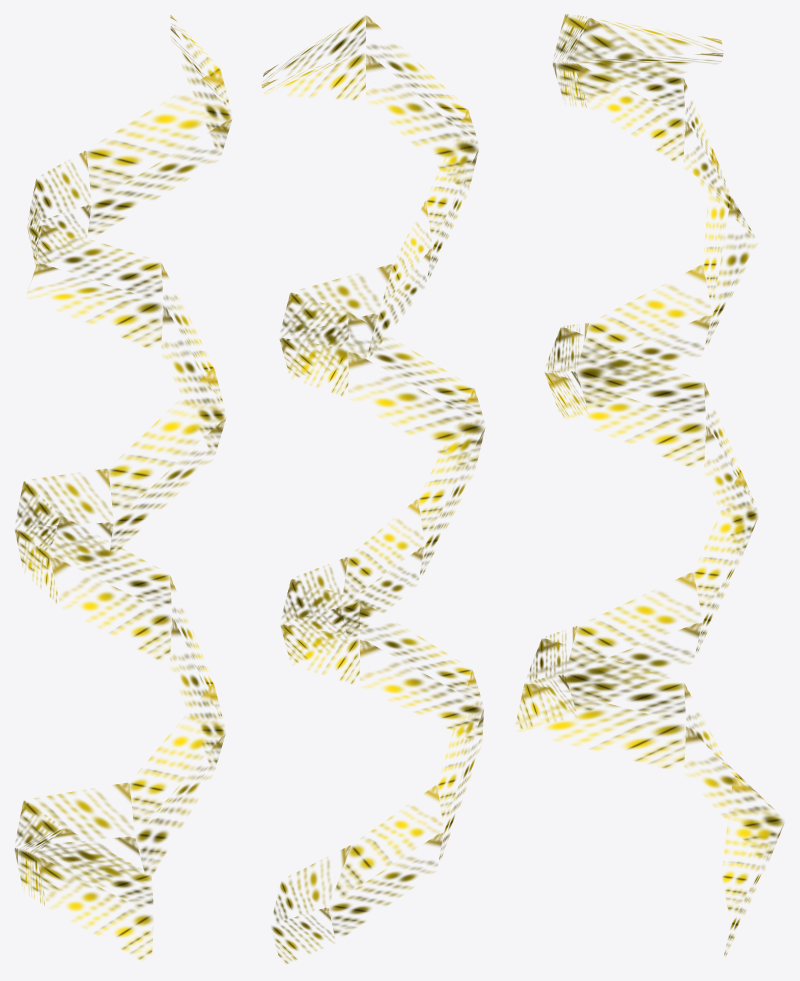
The model's file is polygonalmind-lunar-year-023.glb.
The picture shows the model from 3 angles, left to right: view 1: azimuth 30°, elevation 25°; view 2: azimuth 150°, elevation 25°; view 3: azimuth 270°, elevation 25°; orthographic projection. The views are drawn at different scales.
Parts seen in each view (by area): view 1: InteriorLight05; view 2: InteriorLight05; view 3: InteriorLight05.
Part boxes in pixels (x1,y1,x2,y2): InteriorLight05: (14, 15, 231, 959); InteriorLight05: (261, 15, 484, 963); InteriorLight05: (516, 14, 784, 956).
Bounding box in the file's own units: 0.4874 × 2.54 × 0.6607.
1 material, 1 textured.
